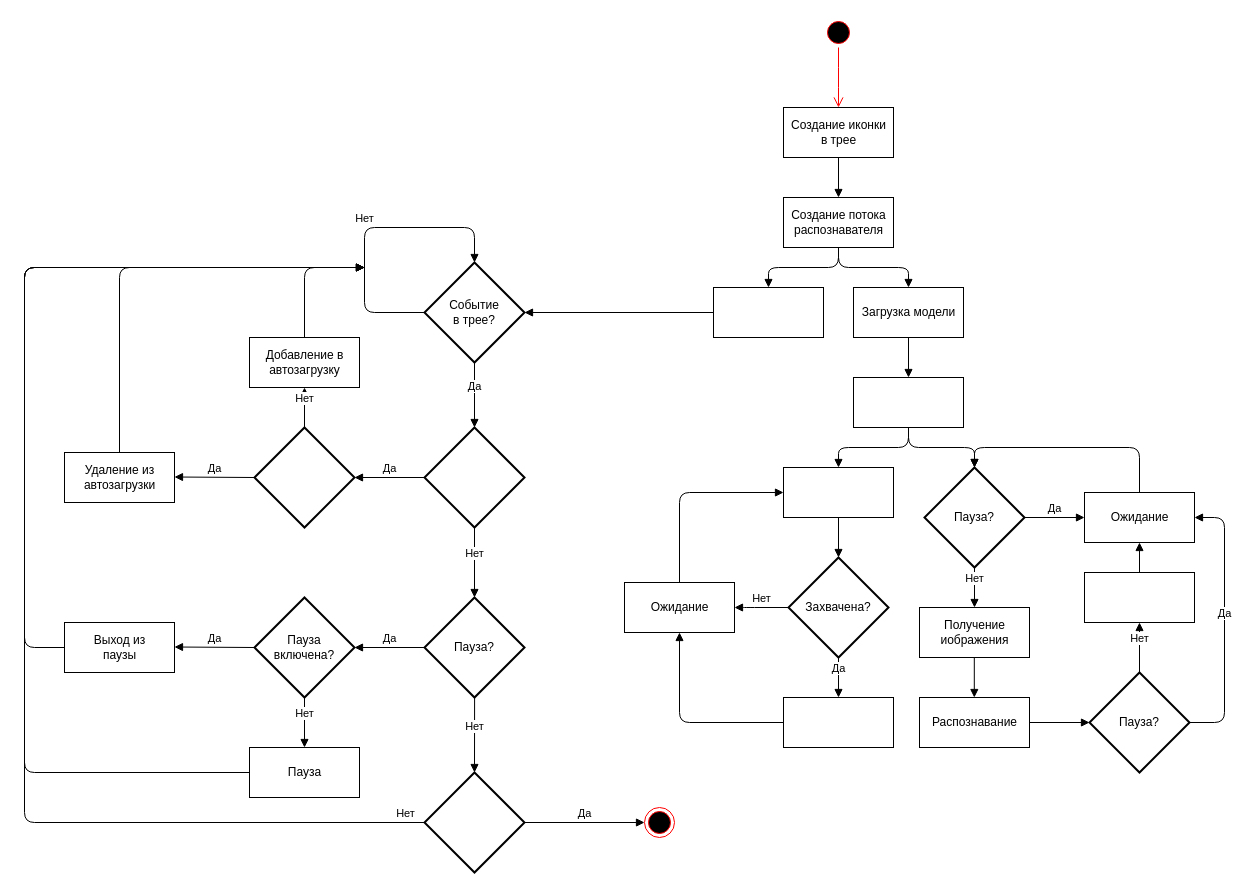
This 1250x891 diagram has some shape labels left out. The shapes that lost their labels are listed below. From the top down, each one's centre as x and y in pixels, then its label:
At (768,312): "Запуск цикла приложения".
At (908,402): "Создание потока захвата изображения".
At (304,477): "Автозагрузка включена?".
At (474,477): "Автозагрузка?".
At (838,492): "Захват веб-камеры".
At (1139,597): "Реакция".
At (838,722): "Получение кадра".
At (474,822): "Выход?".
